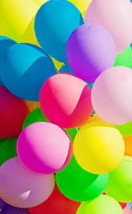Balloon: (1, 42, 56, 102), (40, 73, 93, 126), (73, 121, 126, 174), (15, 123, 72, 172), (1, 157, 56, 207), (65, 24, 116, 74), (33, 1, 80, 55), (92, 66, 132, 124)
